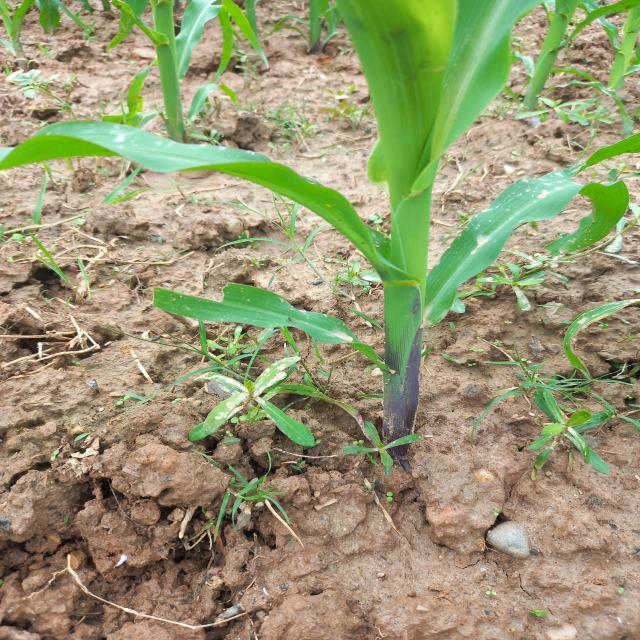maize: (8, 0, 640, 179), (313, 174, 640, 316), (380, 181, 510, 446)
weed: (200, 320, 380, 552), (512, 358, 610, 476), (24, 206, 113, 300)
